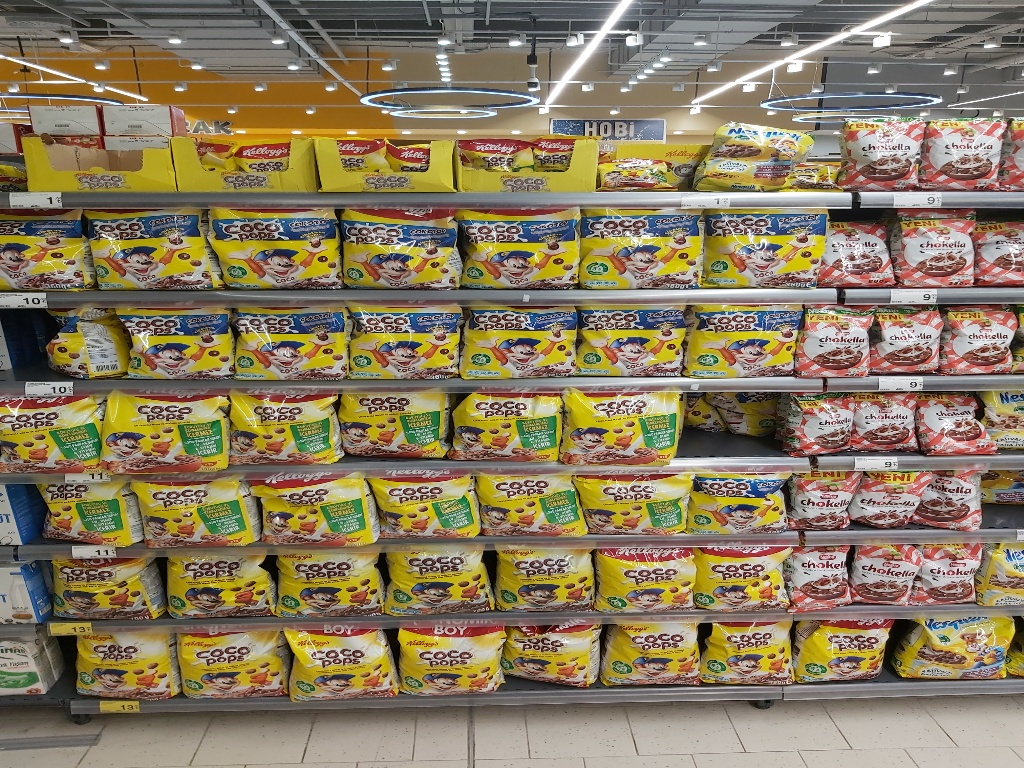urun: (86, 207, 221, 287), (454, 205, 590, 284), (335, 204, 471, 283), (207, 205, 343, 284), (164, 128, 319, 197), (301, 128, 456, 197), (575, 206, 710, 285), (101, 389, 234, 468), (220, 303, 355, 380), (445, 301, 580, 378), (449, 129, 603, 196), (104, 302, 238, 379), (330, 305, 465, 381), (700, 209, 831, 287), (329, 383, 456, 462), (218, 384, 344, 463), (447, 383, 573, 462), (572, 300, 690, 380), (684, 300, 801, 380), (372, 540, 494, 613), (895, 607, 1024, 676), (285, 622, 399, 700), (178, 627, 292, 705), (268, 548, 389, 621), (479, 540, 600, 613), (251, 472, 383, 538), (152, 548, 279, 616), (132, 476, 264, 541), (40, 552, 166, 620), (556, 392, 685, 458), (1, 387, 113, 461), (1, 210, 102, 292), (33, 475, 148, 543), (389, 626, 511, 689), (836, 105, 928, 188), (918, 109, 1010, 192), (577, 474, 694, 539), (69, 632, 179, 700), (31, 308, 132, 380), (692, 539, 788, 614), (367, 468, 483, 530), (475, 471, 590, 532), (500, 622, 609, 686), (893, 212, 979, 289), (790, 614, 895, 677), (689, 470, 794, 532), (596, 545, 699, 607), (937, 301, 1024, 374), (600, 616, 703, 677), (700, 618, 797, 681), (824, 210, 899, 285), (868, 302, 942, 378), (800, 306, 874, 381), (911, 384, 991, 449), (782, 541, 856, 611), (849, 539, 923, 608), (913, 538, 987, 607), (791, 389, 860, 460), (854, 384, 923, 454), (916, 468, 988, 530), (844, 470, 915, 531), (786, 470, 856, 526), (973, 212, 1024, 284)
urun2: (20, 125, 175, 195)
